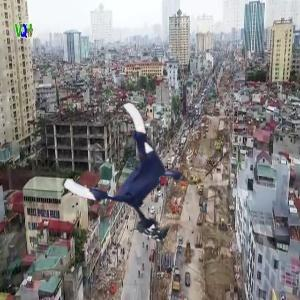drone: (75, 108, 194, 227)
